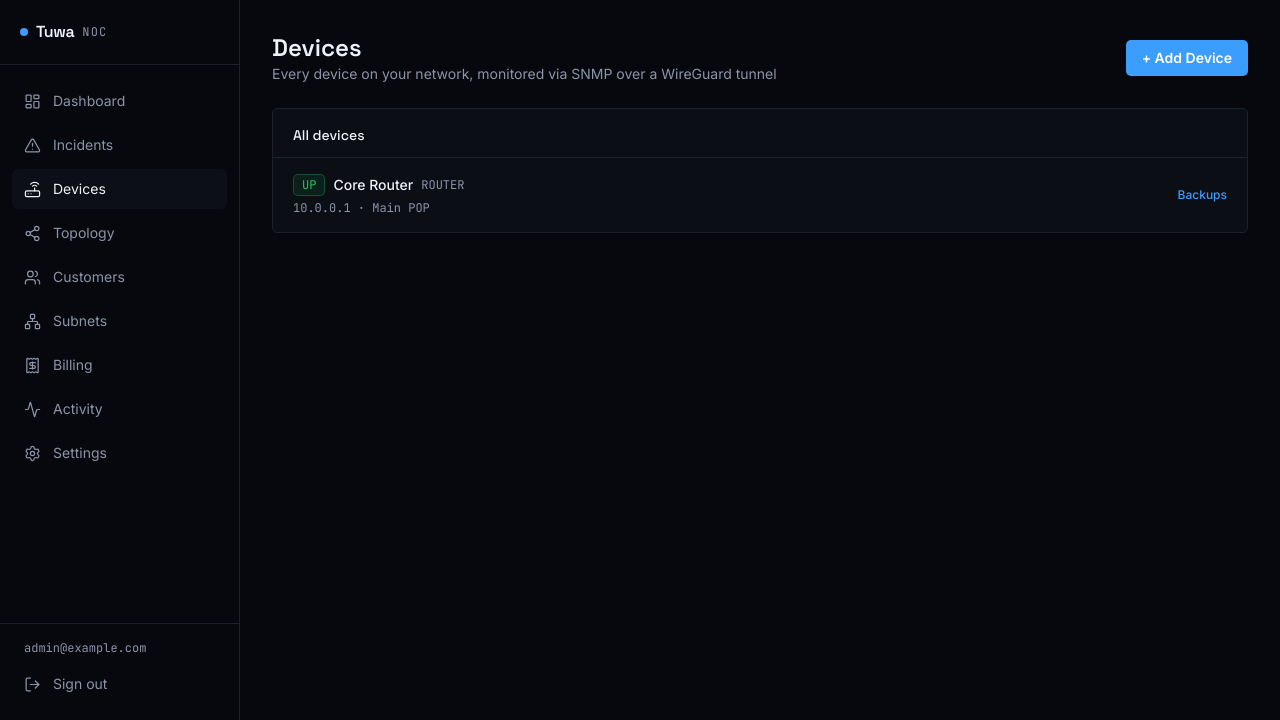
Test case: Devices › shows a real empty state for a device with no backups yet
The image size is (1280, 720).
expect the text "Core Router" is shown: met, box [333,175,413,195]
Click the button "Backups". click: (1202, 195)
box: [1178,187,1227,203]
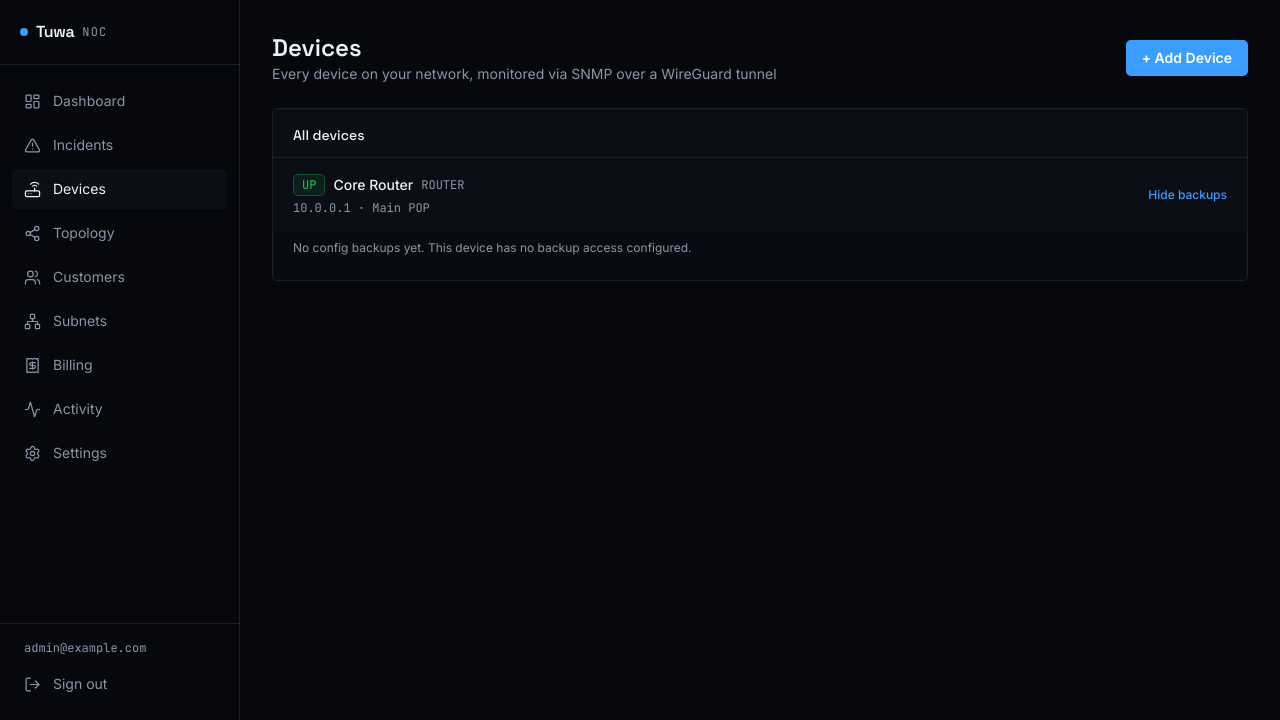
expect the text "No config backups yet" is shown: met, box [293,240,428,255]
